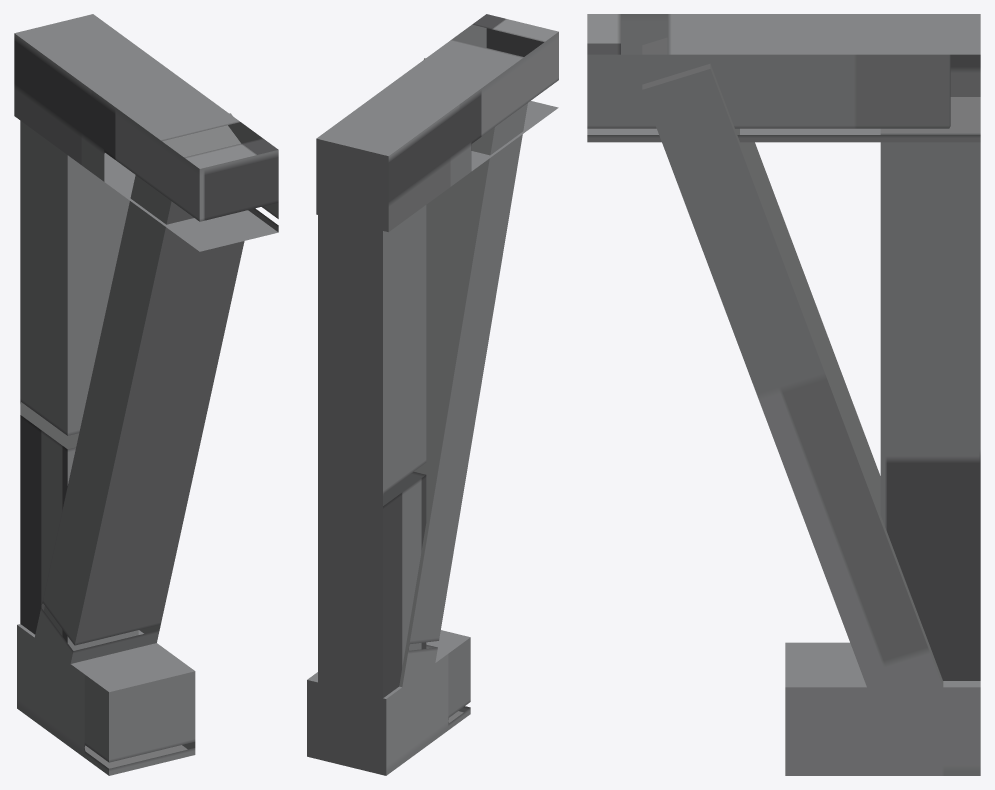
The picture shows the model from 3 angles, left to right: view 1: azimuth 30°, elevation 25°; view 2: azimuth 150°, elevation 25°; view 3: azimuth 270°, elevation 25°; orthographic projection. The views are drawn at different scales.
Bounding box in the file's own units: 0.1413 × 1.03 × 0.5103.
